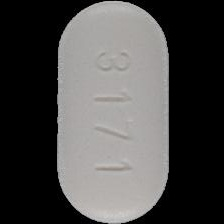0591-3171: (0, 0, 224, 224)
